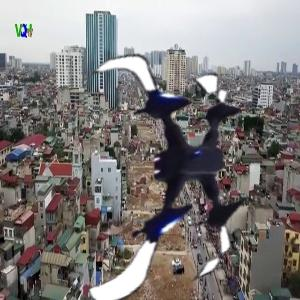drone: (42, 42, 289, 289)
